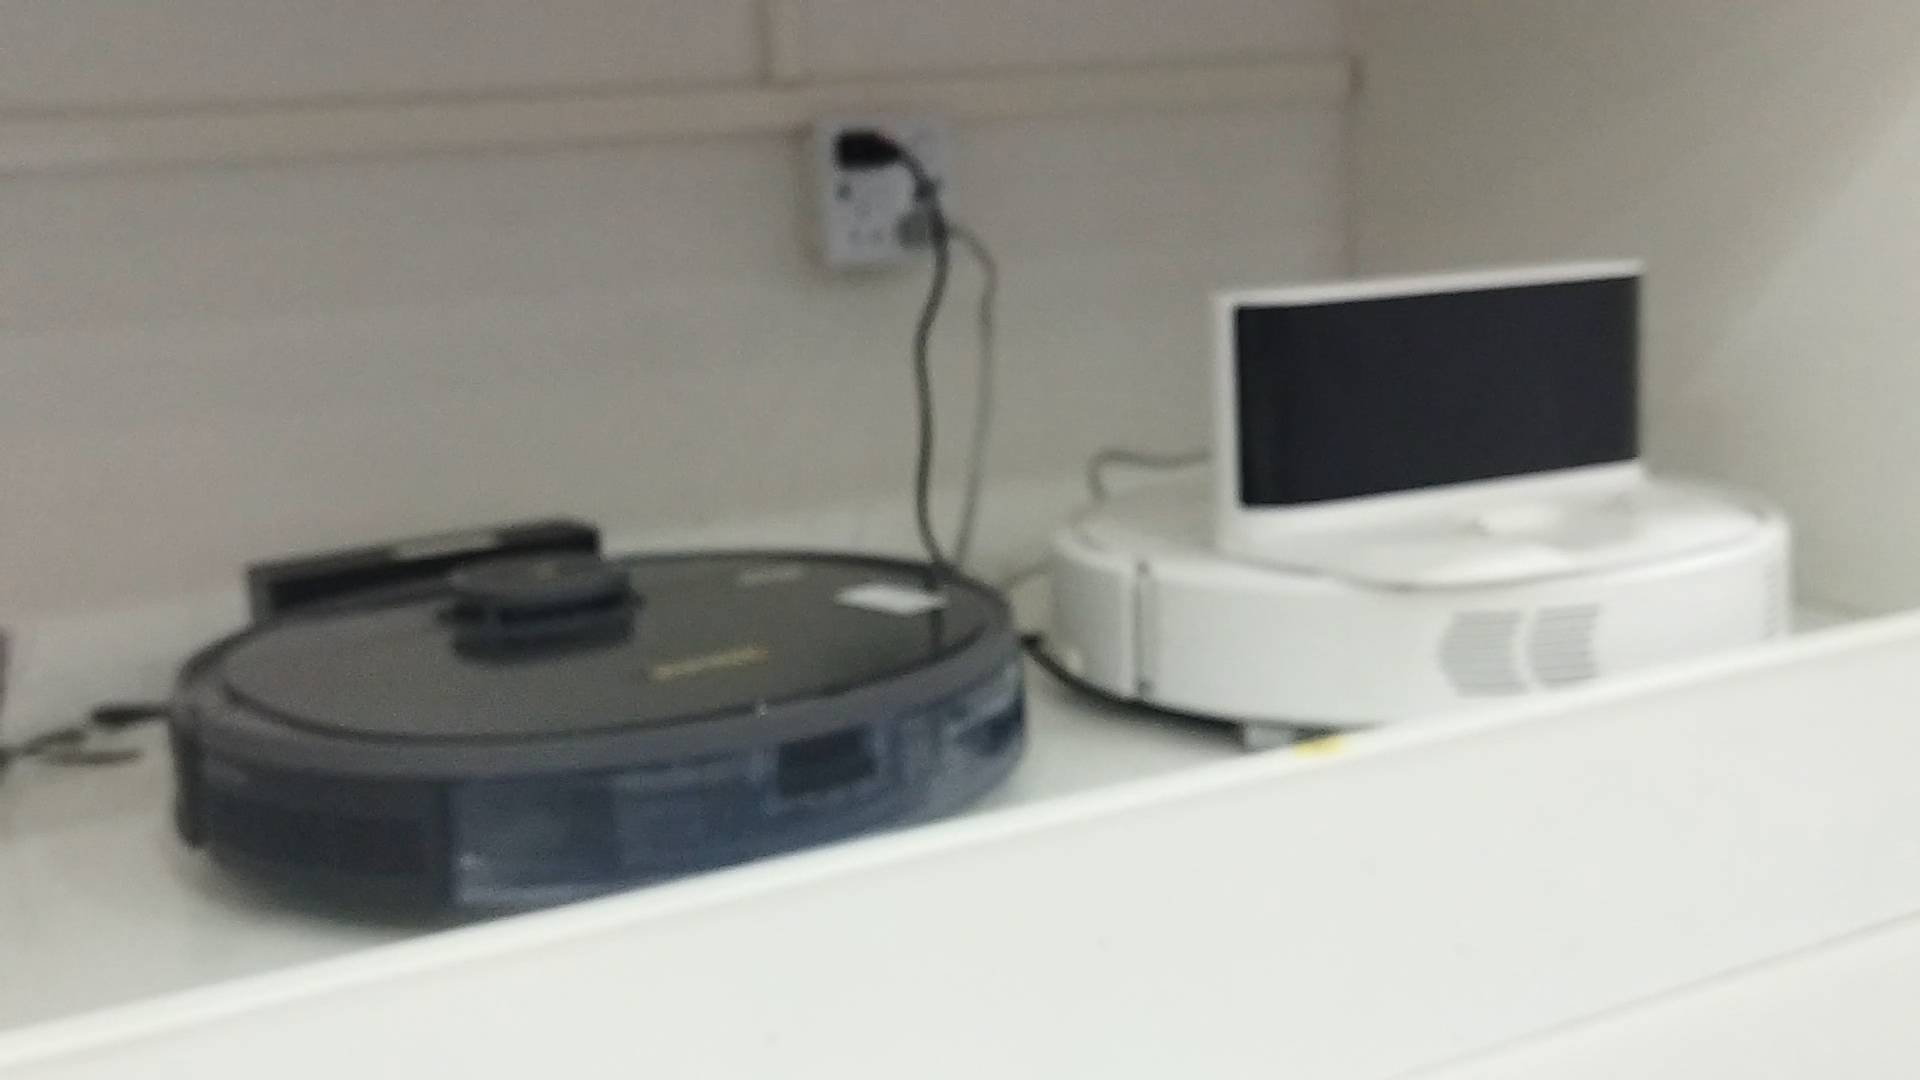recharge seat: (1211, 258, 1760, 588)
